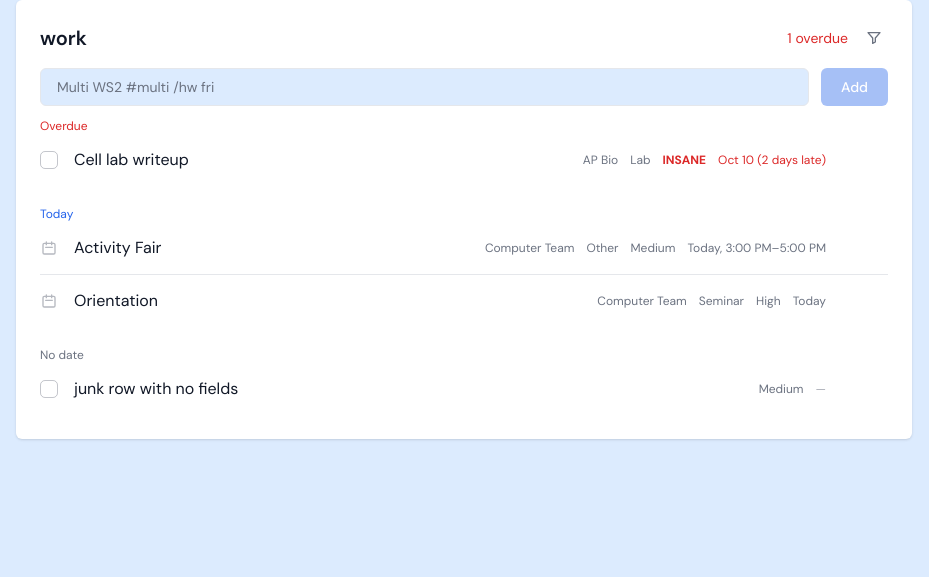
it: the filter panel is behind an icon and offers only what matches
This screenshot has width=929, height=577.
Check: the text "Priority" is not shown
Click the button named "Filters".
click(874, 38)  # box [860,24,888,52]
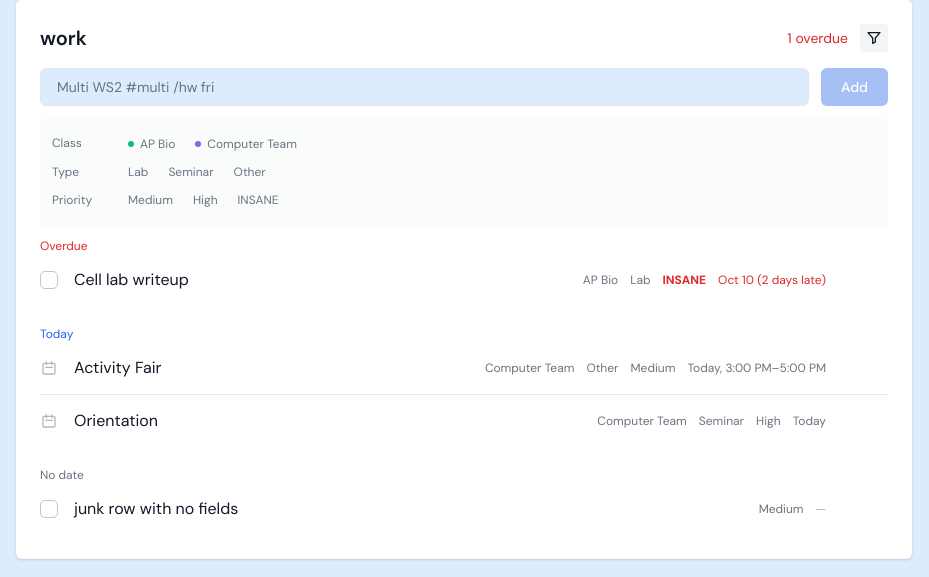
Check: the text "Class" is shown, box [52,135,82,151]
Check: the text "Type" is shown, box [52,164,79,180]
Check: the button "Lab" next to "Type" is shown, box [120,162,156,182]
Click the button "INSANE" in the row of "Priority".
click(258, 200)  # box [230,190,287,210]
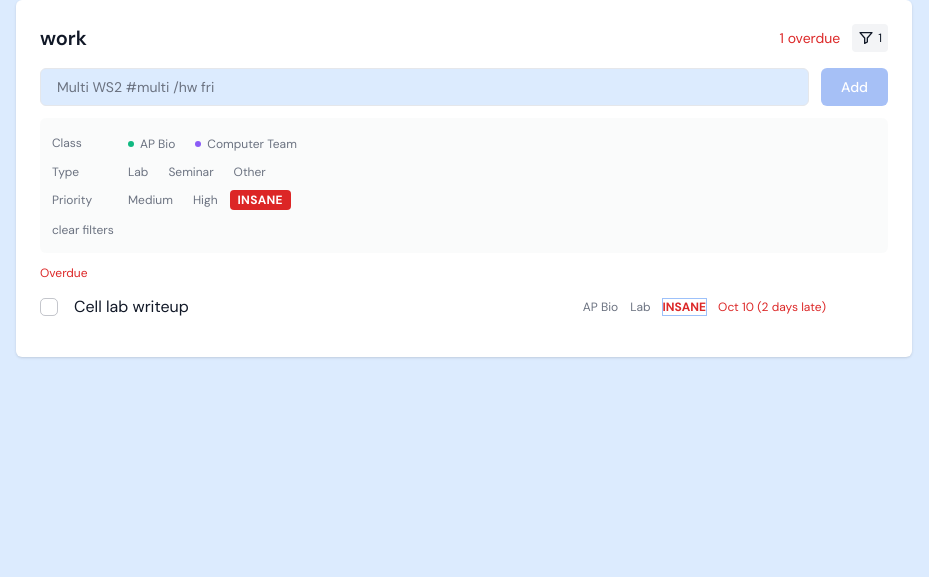
Check: the button "Activity Fair" is gone
Click the button "clear filters".
click(83, 230)  # box [52,222,114,238]
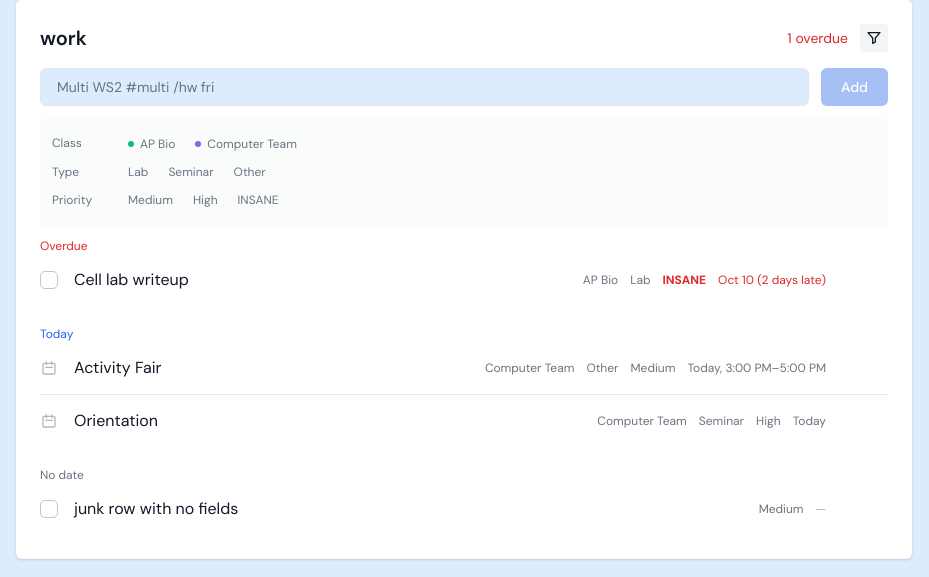
Check: the button "Activity Fair" is shown, box [68,354,467,382]
